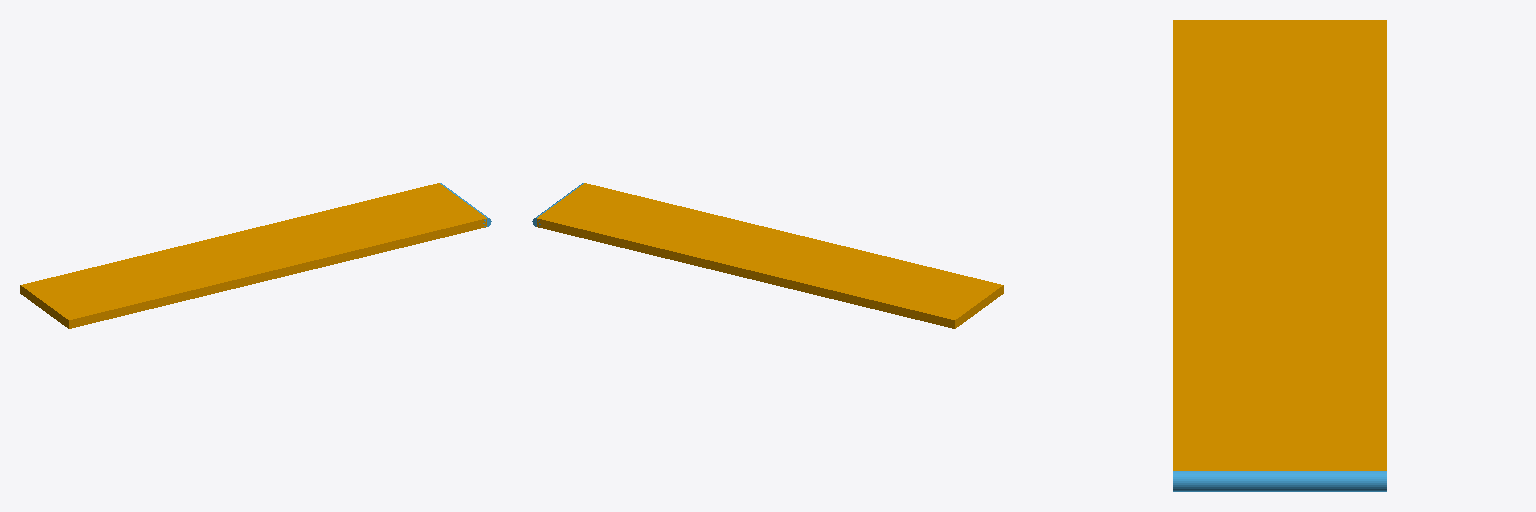
robot.urdf — example_lugged_wheel:
<?xml version="1.0" ?>
<!-- =================================================================================== -->
<!-- |    This document was autogenerated by xacro from urdf_xacro/example_lugged_wheel_gazebo.urdf.xacro | -->
<!-- |    EDITING THIS FILE BY HAND IS NOT RECOMMENDED                                 | -->
<!-- =================================================================================== -->
<robot name="example_lugged_wheel">
  <!-- -->
  <!--                                -->
  <!-- macros for making lugged wheel -->
  <!--                                -->
  <!-- macros which expand to inertial/collision/visual -->
  <!-- macros which expand to box/polyline collision and visual. convenient when defining pattern elements on a track -->
  <!-- macros for populating general links/joints -->
  <!-- track segment templates which can be used with above population macros -->
  <!-- macros for populating track segments with above population macros and above templates -->
  <!-- macro which expands to plugin definition -->
  <!-- main entry point: macro for making a lugged wheel by ContinuousTrack plugin -->
  <!-- URDF file for general ROS systems such as ros_control, rviz, etc.           -->
  <!-- We define here;                                                             -->
  <!--     * a stabilizer plate as a parent body of wheels                         -->
  <!--     * a shaft to drive the wheels                                           -->
  <!--     * an axle and actuator for the sprocket                                 -->
  <!-- Other entities specialized for Gazebo are defined in *_gazebo.urdf.xacro .  -->
  <!-- stabilizer plate -->
  <link name="stabilizer">
    <inertial>
      <mass value="0.1"/>
      <inertia ixx="8.416666666666669e-05" ixy="0" ixz="0" iyy="0.002084166666666667" iyz="0" izz="0.002166666666666667"/>
    </inertial>
    <visual>
      <geometry>
        <box size="0.5 0.1 0.01"/>
      </geometry>
    </visual>
    <collision>
      <geometry>
        <box size="0.5 0.1 0.01"/>
      </geometry>
    </collision>
  </link>
  <!-- shaft driving the wheels -->
  <link name="shaft">
    <inertial>
      <mass value="0.05"/>
      <!-- assuming axis of cylinder is y, not z -->
      <inertia ixx="4.197916666666667e-05" ixy="0" ixz="0" iyy="6.25e-07" iyz="0" izz="4.197916666666667e-05"/>
    </inertial>
    <visual>
      <origin rpy="1.5707963267948966 0 0" xyz="0 0 0"/>
      <geometry>
        <cylinder length="0.1" radius="0.005"/>
      </geometry>
    </visual>
    <collision>
      <origin rpy="1.5707963267948966 0 0" xyz="0 0 0"/>
      <geometry>
        <cylinder length="0.1" radius="0.005"/>
      </geometry>
    </collision>
  </link>
  <joint name="shaft_axle" type="continuous">
    <origin rpy="0 0 0" xyz="0.25 0 0"/>
    <parent link="stabilizer"/>
    <child link="shaft"/>
    <axis xyz="0 1 0"/>
  </joint>
  <transmission name="shaft_transmission">
    <type>transmission_interface/SimpleTransmission</type>
    <joint name="shaft_axle">
      <hardwareInterface>hardware_interface/VelocityJointInterface</hardwareInterface>
    </joint>
    <actuator name="shaft_actuator">
      <mechanicalReduction>1</mechanicalReduction>
    </actuator>
  </transmission>
  <!-- -->
  <gazebo>
    <link name="left_wheel_arc_segment_link0">
      <pose>0.25 0.15 0.115 0 0 0</pose>
      <inertial>
        <pose>0 0 -0.115 1.5707963267948966 0 0</pose>
        <mass>0.1</mass>
        <inertia>
          <ixx>0.0006639583333333335</ixx>
          <ixy>0</ixy>
          <ixz>0</ixz>
          <iyy>0.0006639583333333335</iyy>
          <iyz>0</iyz>
          <izz>0.0006612500000000002</izz>
        </inertia>
      </inertial>
      <collision name="collision">
        <pose>0 0 -0.115 1.5707963267948966 0 0</pose>
        <geometry>
          <cylinder>
            <length>0.2</length>
            <radius>0.115</radius>
          </cylinder>
        </geometry>
        <surface>
          <friction>
            <ode>
              <mu>0.5</mu>
              <mu2>0.5</mu2>
            </ode>
          </friction>
          <contact>
            <ode>
              <min_depth>0.01</min_depth>
            </ode>
          </contact>
        </surface>
      </collision>
      <visual name="visual">
        <pose>0 0 -0.115 1.5707963267948966 0 0</pose>
        <geometry>
          <cylinder>
            <length>0.2</length>
            <radius>0.115</radius>
          </cylinder>
        </geometry>
        <material>
          <ambient>0.8 0.8 0.8 1</ambient>
          <diffuse>0.2 0.2 0.2 1</diffuse>
          <specular>0 0 0 1</specular>
          <emissive>0 0 0 1</emissive>
        </material>
      </visual>
    </link>
  </gazebo>
  <gazebo>
    <joint name="left_wheel_arc_segment_joint0" type="revolute">
      <child>left_wheel_arc_segment_link0</child>
      <parent>stabilizer</parent>
      <pose>0 0 -0.115 0 0 0</pose>
      <axis>
        <xyz>0 1 0</xyz>
        <use_parent_model_frame>0</use_parent_model_frame>
      </axis>
      <physics>
        <ode>
          <implicit_spring_damper>1</implicit_spring_damper>
        </ode>
      </physics>
    </joint>
  </gazebo>
  <gazebo>
    <plugin filename="libContinuousTrack.so" name="left_wheel">
      <sprocket>
        <joint>shaft_axle</joint>
        <pitch_diameter>0.24</pitch_diameter>
      </sprocket>
      <trajectory>
        <segment>
          <joint>left_wheel_arc_segment_joint0</joint>
          <end_position>6.283185307179586</end_position>
        </segment>
      </trajectory>
      <pattern>
        <elements_per_round>8</elements_per_round>
        <element>
          <collision name="collision">
            <pose>0 0 0.03 0 0 0</pose>
            <geometry>
              <box>
                <size>0.005 0.2 0.07</size>
              </box>
            </geometry>
            <surface>
              <friction>
                <ode>
                  <mu>0.5</mu>
                  <mu2>0.5</mu2>
                </ode>
              </friction>
              <contact>
                <ode>
                  <min_depth>0.01</min_depth>
                </ode>
              </contact>
            </surface>
          </collision>
          <visual name="visual">
            <pose>0 0 0.03 0 0 0</pose>
            <geometry>
              <box>
                <size>0.005 0.2 0.07</size>
              </box>
            </geometry>
            <material>
              <ambient>0.8 0.8 0.8 1</ambient>
              <diffuse>0.2 0.2 0.2 1</diffuse>
              <specular>0 0 0 1</specular>
              <emissive>0 0 0 1</emissive>
            </material>
          </visual>
        </element>
      </pattern>
    </plugin>
  </gazebo>
  <gazebo>
    <link name="right_wheel_arc_segment_link0">
      <pose>0.25 -0.15 0.115 0 0 0</pose>
      <inertial>
        <pose>0 0 -0.115 1.5707963267948966 0 0</pose>
        <mass>0.1</mass>
        <inertia>
          <ixx>0.0006639583333333335</ixx>
          <ixy>0</ixy>
          <ixz>0</ixz>
          <iyy>0.0006639583333333335</iyy>
          <iyz>0</iyz>
          <izz>0.0006612500000000002</izz>
        </inertia>
      </inertial>
      <collision name="collision">
        <pose>0 0 -0.115 1.5707963267948966 0 0</pose>
        <geometry>
          <cylinder>
            <length>0.2</length>
            <radius>0.115</radius>
          </cylinder>
        </geometry>
        <surface>
          <friction>
            <ode>
              <mu>0.5</mu>
              <mu2>0.5</mu2>
            </ode>
          </friction>
          <contact>
            <ode>
              <min_depth>0.01</min_depth>
            </ode>
          </contact>
        </surface>
      </collision>
      <visual name="visual">
        <pose>0 0 -0.115 1.5707963267948966 0 0</pose>
        <geometry>
          <cylinder>
            <length>0.2</length>
            <radius>0.115</radius>
          </cylinder>
        </geometry>
        <material>
          <ambient>0.8 0.8 0.8 1</ambient>
          <diffuse>0.2 0.2 0.2 1</diffuse>
          <specular>0 0 0 1</specular>
          <emissive>0 0 0 1</emissive>
        </material>
      </visual>
    </link>
  </gazebo>
  <gazebo>
    <joint name="right_wheel_arc_segment_joint0" type="revolute">
      <child>right_wheel_arc_segment_link0</child>
      <parent>stabilizer</parent>
      <pose>0 0 -0.115 0 0 0</pose>
      <axis>
        <xyz>0 1 0</xyz>
        <use_parent_model_frame>0</use_parent_model_frame>
      </axis>
      <physics>
        <ode>
          <implicit_spring_damper>1</implicit_spring_damper>
        </ode>
      </physics>
    </joint>
  </gazebo>
  <gazebo>
    <plugin filename="libContinuousTrack.so" name="right_wheel">
      <sprocket>
        <joint>shaft_axle</joint>
        <pitch_diameter>0.24</pitch_diameter>
      </sprocket>
      <trajectory>
        <segment>
          <joint>right_wheel_arc_segment_joint0</joint>
          <end_position>6.283185307179586</end_position>
        </segment>
      </trajectory>
      <pattern>
        <elements_per_round>8</elements_per_round>
        <element>
          <collision name="collision">
            <pose>0 0 0.03 0 0 0</pose>
            <geometry>
              <box>
                <size>0.005 0.2 0.07</size>
              </box>
            </geometry>
            <surface>
              <friction>
                <ode>
                  <mu>0.5</mu>
                  <mu2>0.5</mu2>
                </ode>
              </friction>
              <contact>
                <ode>
                  <min_depth>0.01</min_depth>
                </ode>
              </contact>
            </surface>
          </collision>
          <visual name="visual">
            <pose>0 0 0.03 0 0 0</pose>
            <geometry>
              <box>
                <size>0.005 0.2 0.07</size>
              </box>
            </geometry>
            <material>
              <ambient>0.8 0.8 0.8 1</ambient>
              <diffuse>0.2 0.2 0.2 1</diffuse>
              <specular>0 0 0 1</specular>
              <emissive>0 0 0 1</emissive>
            </material>
          </visual>
        </element>
      </pattern>
    </plugin>
  </gazebo>
  <!-- low friction between the stabilizer and ground -->
  <gazebo reference="stabilizer">
    <mu1>0.01</mu1>
    <mu2>0.01</mu2>
  </gazebo>
  <!-- ros_control for gazebo -->
  <gazebo>
    <plugin filename="libgazebo_ros_control.so" name="gazebo_ros_control">
      <robotSimType>gazebo_ros_control/DefaultRobotHWSim</robotSimType>
      <legacyModeNS>false</legacyModeNS>
    </plugin>
  </gazebo>
</robot>

--- Render facts (derived) ---
The picture shows the robot from 3 angles, left to right: view 1: azimuth 30°, elevation 25°; view 2: azimuth 150°, elevation 25°; view 3: azimuth 270°, elevation 25°; orthographic projection.
Model example_lugged_wheel with 2 links and 1 joints (1 continuous), rooted at stabilizer, posed all joints at 0.
Visible links, largest first — view 1: stabilizer; view 2: stabilizer; view 3: stabilizer, shaft.
Boxes of the visible links, <box> form: stabilizer: <box>20,183,486,328</box>; stabilizer: <box>537,183,1003,328</box>; stabilizer: <box>1173,20,1386,470</box>; shaft: <box>1173,471,1386,491</box>.
Bounding box of the posed robot: 0.505 × 0.1 × 0.01 m (x, y, z).
Geometry: primitives only (box / cylinder / sphere), no mesh files.